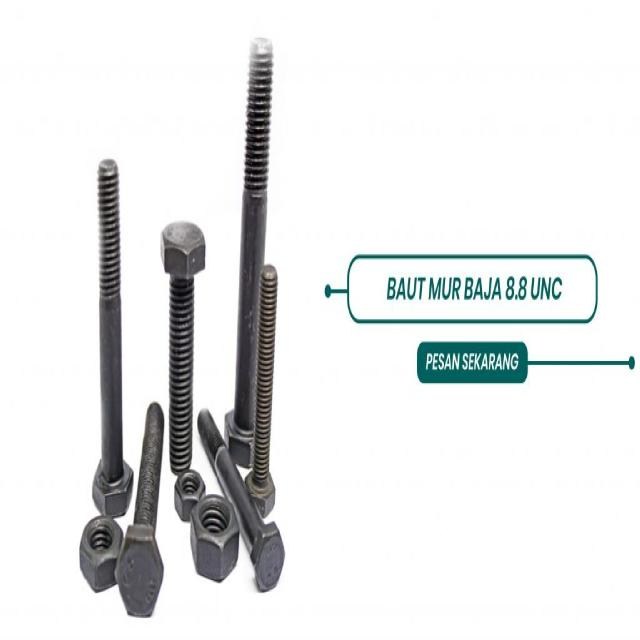Logam: (231, 3, 297, 527), (82, 138, 140, 506), (197, 387, 293, 588), (158, 189, 196, 463), (124, 396, 172, 607), (171, 458, 238, 584), (72, 502, 120, 580)
